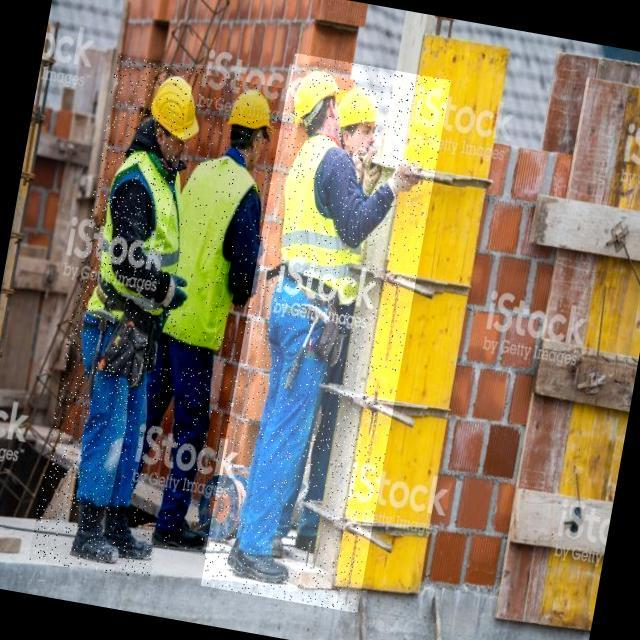Gloves: (144, 268, 194, 315), (388, 153, 422, 205)
Helmet: (147, 73, 212, 146), (292, 66, 343, 129), (228, 90, 283, 146), (337, 84, 390, 137)
Person: (210, 55, 432, 597), (64, 53, 203, 574)
Safety Boot: (69, 500, 127, 564), (102, 508, 159, 565), (225, 541, 294, 586), (155, 507, 215, 554)
Safety Vest: (159, 151, 269, 355), (84, 148, 201, 334), (263, 133, 377, 320)
